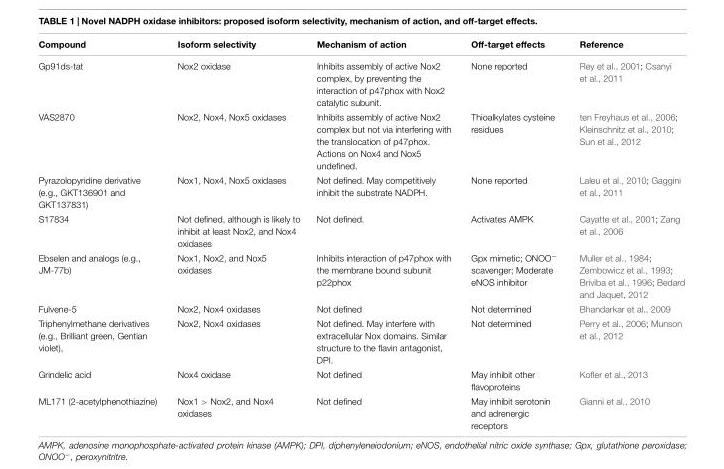table: (37, 37, 684, 429)
table column: (307, 37, 460, 429), (166, 37, 307, 429), (37, 37, 166, 429), (567, 37, 684, 429), (460, 37, 567, 429)
table column header: (37, 37, 684, 54)
table row: (37, 108, 684, 172), (37, 54, 684, 108), (37, 249, 684, 300), (37, 315, 684, 366), (37, 210, 684, 249), (37, 172, 684, 210), (37, 393, 684, 429), (37, 366, 684, 393), (37, 37, 684, 54), (37, 300, 684, 315)
